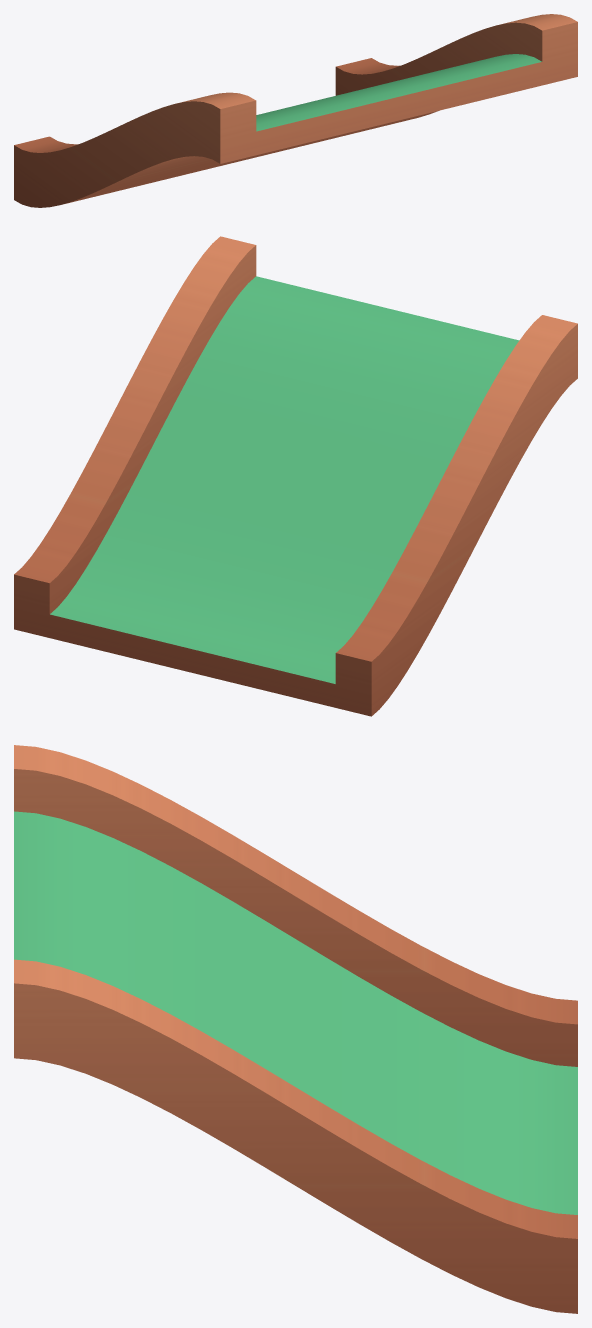
The model's file is ramp.glb.
3 renders of one model, top to bottom at view 1: azimuth 30°, elevation 25°; view 2: azimuth 150°, elevation 25°; view 3: azimuth 270°, elevation 25°, orthographic. The views are drawn at different scales.
Parts seen in each view (by area): view 1: ramp; view 2: ramp; view 3: ramp.
Part boxes in pixels (left/top/right/bottom): ramp: left=14, top=14, right=577, bottom=207; ramp: left=14, top=236, right=577, bottom=716; ramp: left=14, top=745, right=577, bottom=1313.
Bounding box in the file's own units: 0.9999 × 0.6466 × 0.9999.
Materials: 1 (1 with a texture image).
